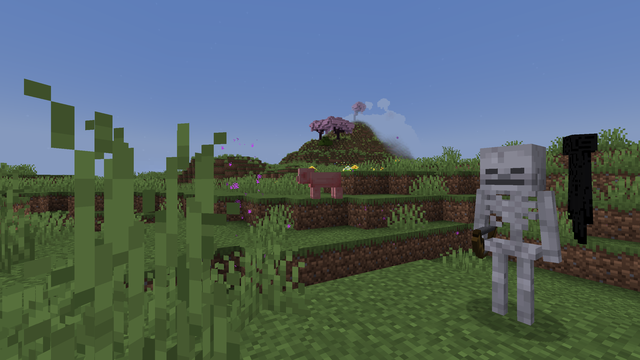cochons: (306, 171, 342, 199)
endermens: (560, 129, 598, 243)
squelettes: (472, 143, 555, 336)
